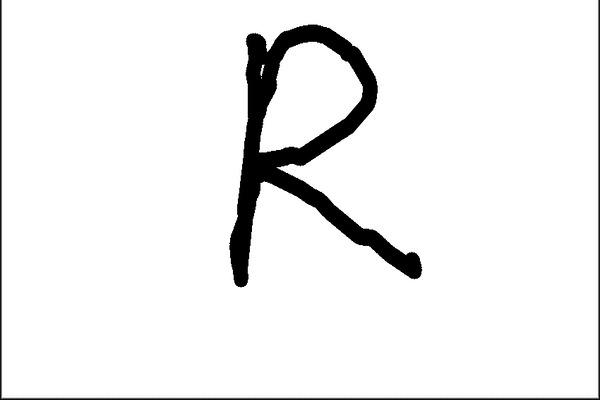R: (220, 19, 431, 295)
